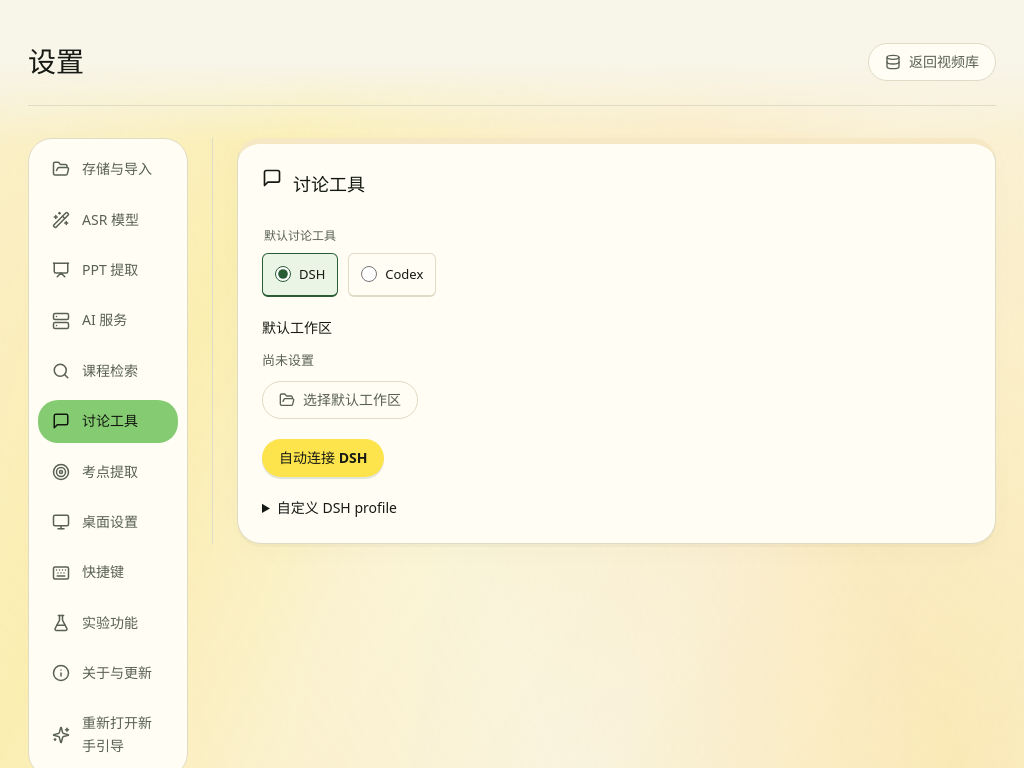
it: locks the tool choice while the dsh folder picker is open
The image size is (1024, 768).
Click the button "选择默认工作区" at (340, 400), box [262,381,418,419]
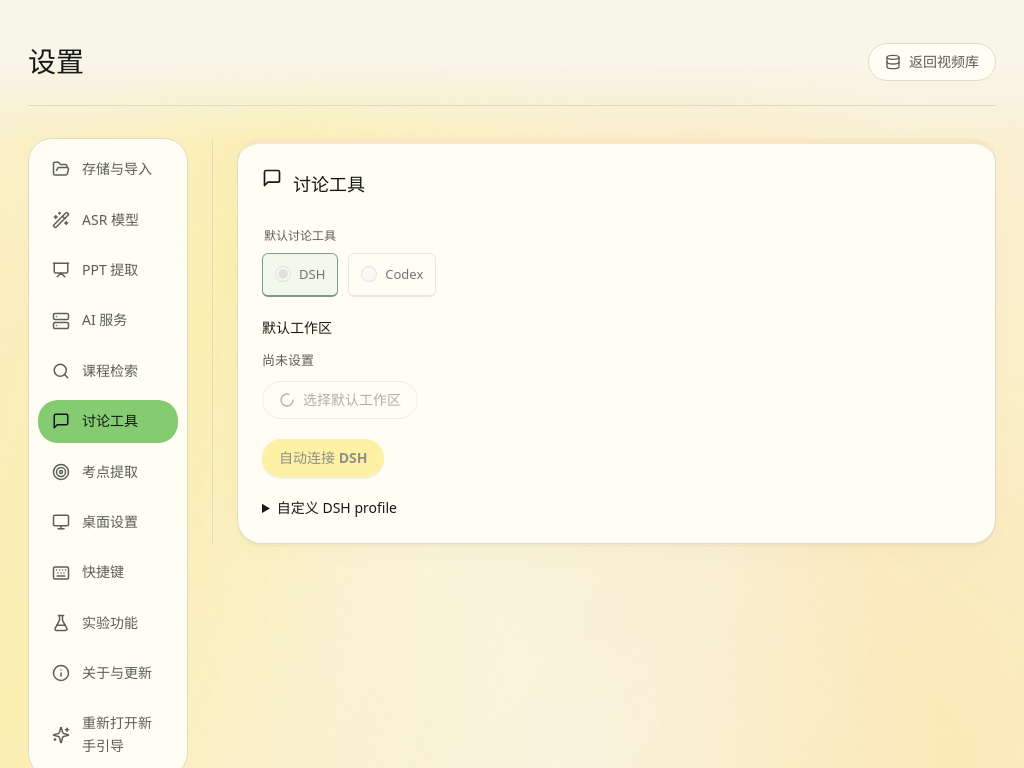
Expected: the element with class "discussion-provider-selector" is disabled, [262,227,436,297]
Click the radio button labelled "Codex" at (369, 274), box [361,266,377,282]
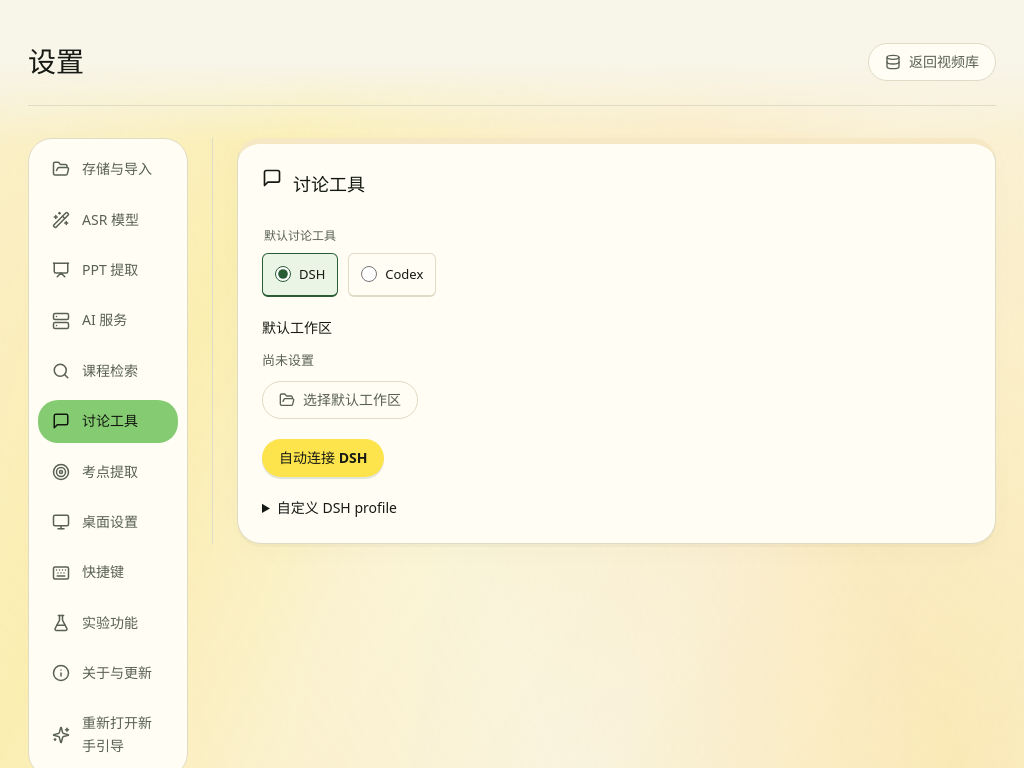
Expected: the element with class "discussion-provider-selector" is enabled, [262,227,436,297]
